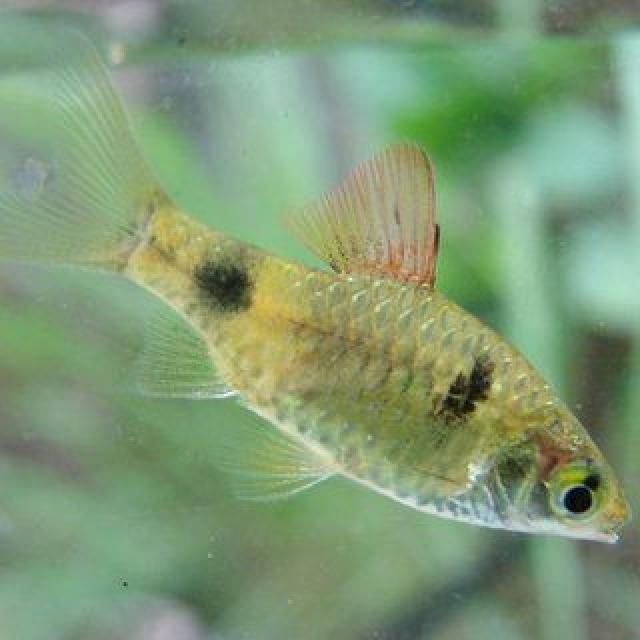Black-Spotted-Barb: (0, 32, 640, 583)
